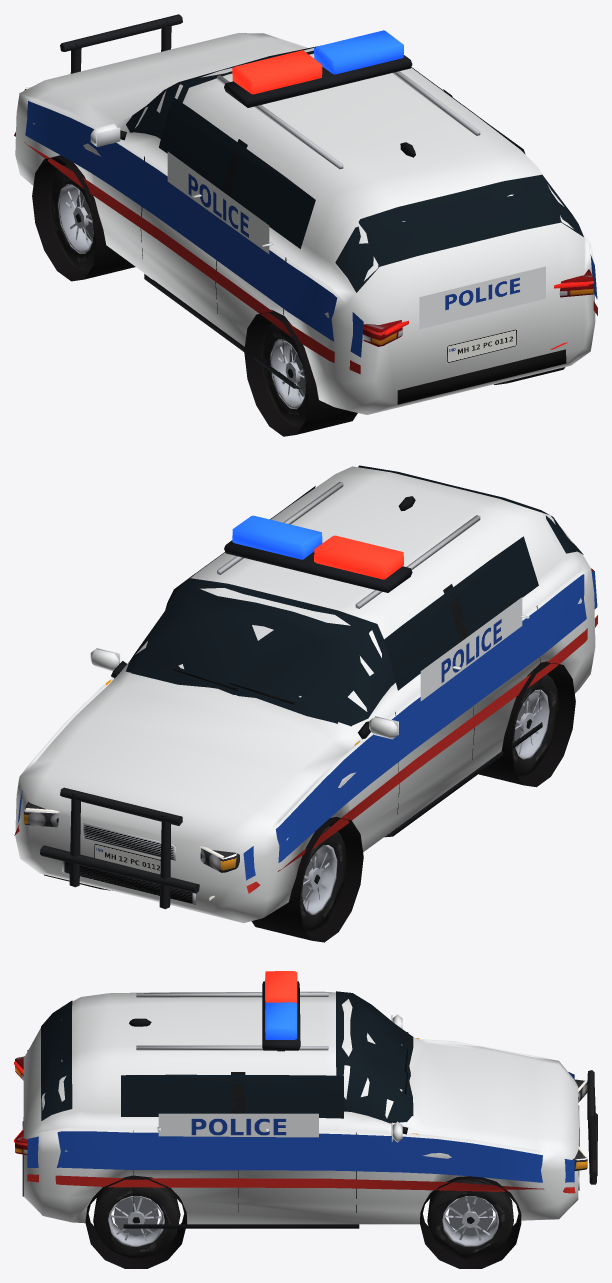
Rendered from policejeep_far.glb.
The picture shows the model from 3 angles, top to bottom: view 1: azimuth 30°, elevation 25°; view 2: azimuth 150°, elevation 25°; view 3: azimuth 270°, elevation 25°; orthographic projection. The views are drawn at different scales.
Visible parts, largest first — view 1: suv_PolicePaint, suv_Glass, suv_Parts, suv_LiveryBlue, suv_PoliceDecalRear, suv_LiveryRed, suv_Tyre, suv_PoliceDecal, suv_Siren_R, suv_Siren_B, suv_LightBar, suv_BullBar; view 2: suv_PolicePaint, suv_Glass, suv_Parts, suv_LiveryBlue, suv_BullBar, suv_LiveryRed, suv_Tyre, suv_PoliceDecal, suv_Siren_R, suv_Siren_B, suv_LightBar; view 3: suv_PolicePaint, suv_Glass, suv_LiveryBlue, suv_Parts, suv_Tyre, suv_LiveryRed, suv_PoliceDecal, suv_Siren_B, suv_Siren_R, suv_BullBar, suv_LightBar.
Part boxes in pixels (bbox=[...]): suv_PolicePaint: bbox=[15, 33, 595, 414]; suv_Glass: bbox=[126, 46, 583, 292]; suv_Parts: bbox=[24, 71, 593, 436]; suv_LiveryBlue: bbox=[25, 101, 597, 357]; suv_PoliceDecalRear: bbox=[419, 266, 545, 329]; suv_LiveryRed: bbox=[14, 132, 597, 374]; suv_Tyre: bbox=[49, 165, 308, 426]; suv_PoliceDecal: bbox=[167, 151, 269, 253]; suv_Siren_R: bbox=[232, 50, 322, 94]; suv_Siren_B: bbox=[314, 30, 403, 74]; suv_LightBar: bbox=[224, 55, 412, 107]; suv_BullBar: bbox=[60, 14, 182, 73]; suv_PolicePaint: bbox=[15, 466, 595, 923]; suv_Glass: bbox=[125, 465, 583, 726]; suv_Parts: bbox=[24, 482, 593, 942]; suv_LiveryBlue: bbox=[17, 571, 597, 880]; suv_BullBar: bbox=[40, 787, 199, 909]; suv_LiveryRed: bbox=[14, 615, 597, 893]; suv_Tyre: bbox=[299, 674, 558, 932]; suv_PoliceDecal: bbox=[420, 597, 522, 701]; suv_Siren_R: bbox=[314, 535, 403, 579]; suv_Siren_B: bbox=[232, 515, 322, 559]; suv_LightBar: bbox=[224, 540, 412, 592]; suv_PolicePaint: bbox=[23, 991, 578, 1224]; suv_Glass: bbox=[41, 991, 413, 1123]; suv_LiveryBlue: bbox=[27, 1050, 574, 1182]; suv_Parts: bbox=[15, 992, 587, 1268]; suv_Tyre: bbox=[93, 1179, 513, 1259]; suv_LiveryRed: bbox=[27, 1174, 575, 1193]; suv_PoliceDecal: bbox=[158, 1113, 318, 1137]; suv_Siren_B: bbox=[265, 1002, 297, 1039]; suv_Siren_R: bbox=[265, 971, 297, 1003]; suv_BullBar: bbox=[587, 1070, 597, 1184]; suv_LightBar: bbox=[262, 981, 300, 1051].
Size of the model in its own units: 2.18 by 1.88 by 4.56.
13 materials, 5 textured.
